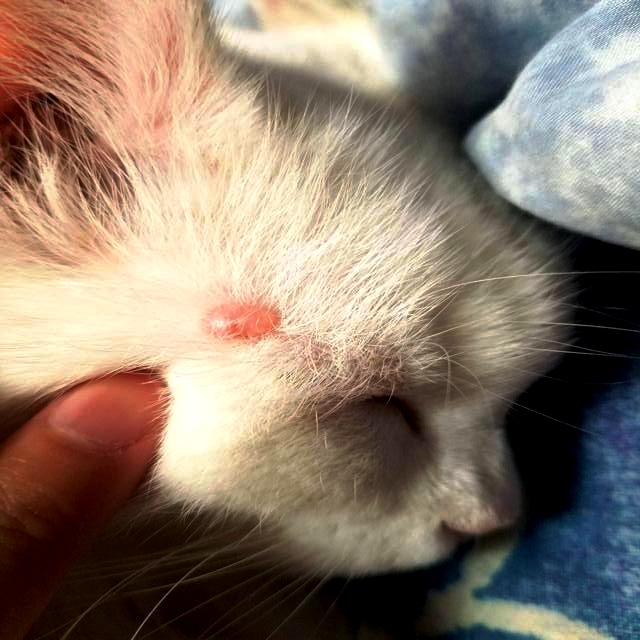lump_and_bump: (208, 304, 280, 341)
